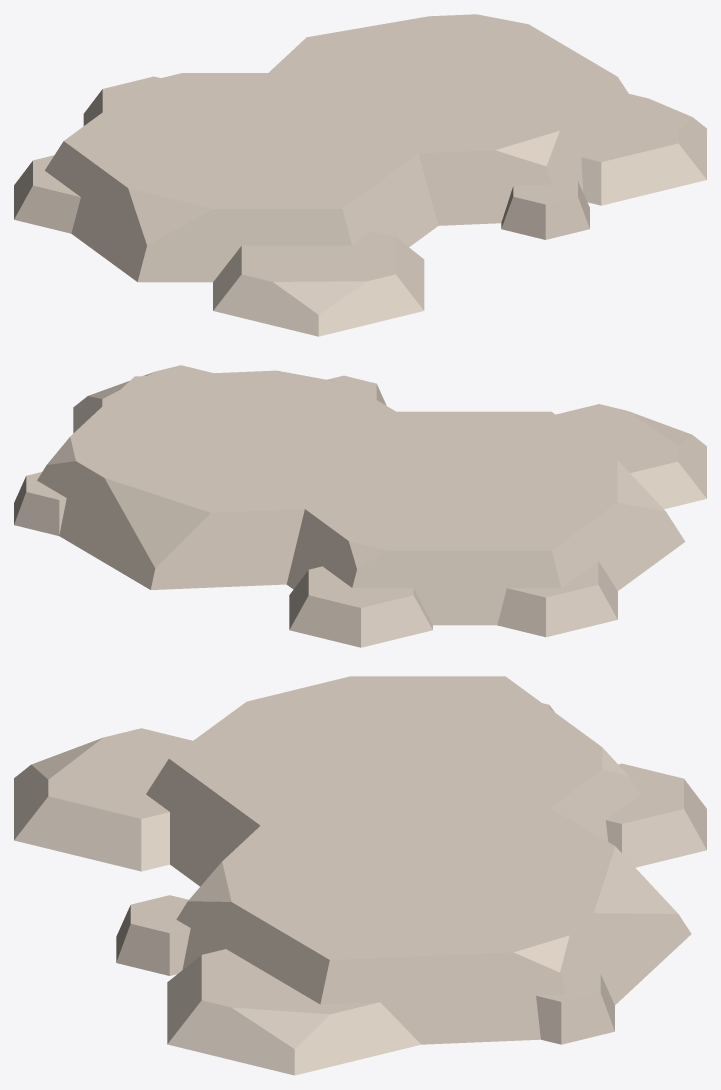
Rendered from platform_beach.glb.
3 views of the same model, one above another, from view 1: azimuth 30°, elevation 25°; view 2: azimuth 150°, elevation 25°; view 3: azimuth 270°, elevation 25° (orthographic). The views are drawn at different scales.
Parts seen in each view (by area): view 1: platform_beach; view 2: platform_beach; view 3: platform_beach.
Part boxes in pixels (x1,y1,x2,y2): platform_beach: (14, 14, 706, 336); platform_beach: (14, 365, 706, 647); platform_beach: (14, 676, 706, 1075).
Bounding box in the file's own units: 0.8932 × 0.0825 × 0.7239.
